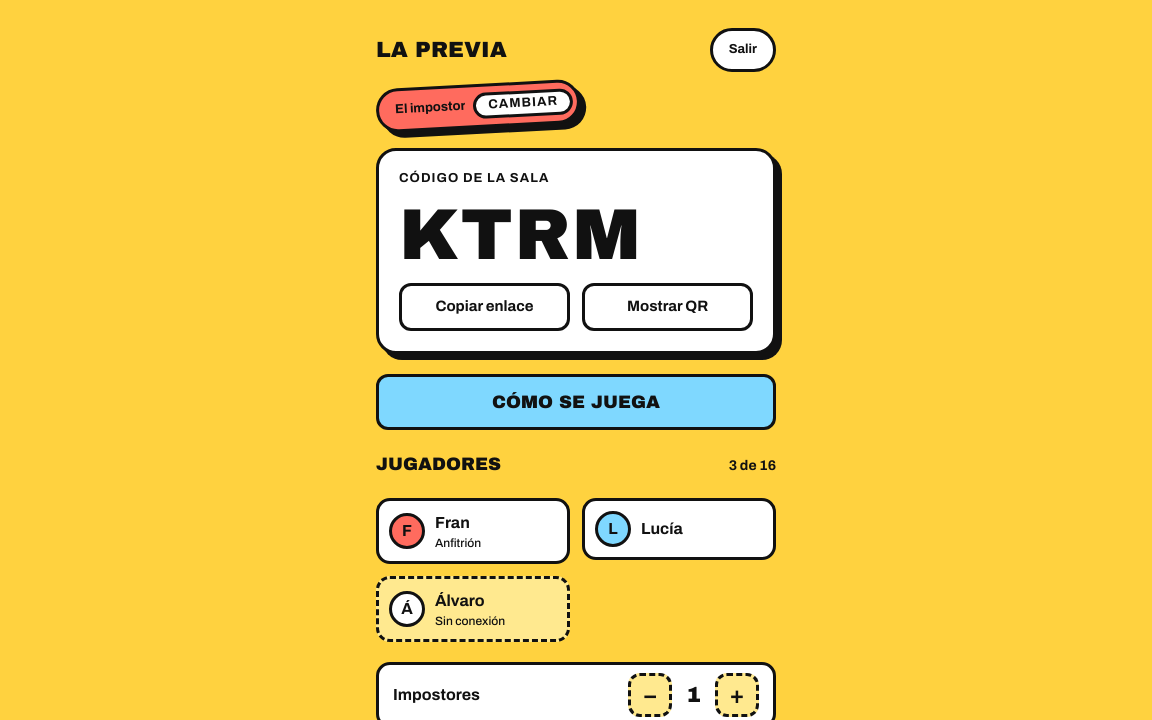
Scenario: Room › cancelar la salida no hace nada
What coordinates should you click on to do the following:
click the button with aria-label "Salir de la sala"
I would click on:
 (743, 50)
Its box is [710, 28, 776, 72].
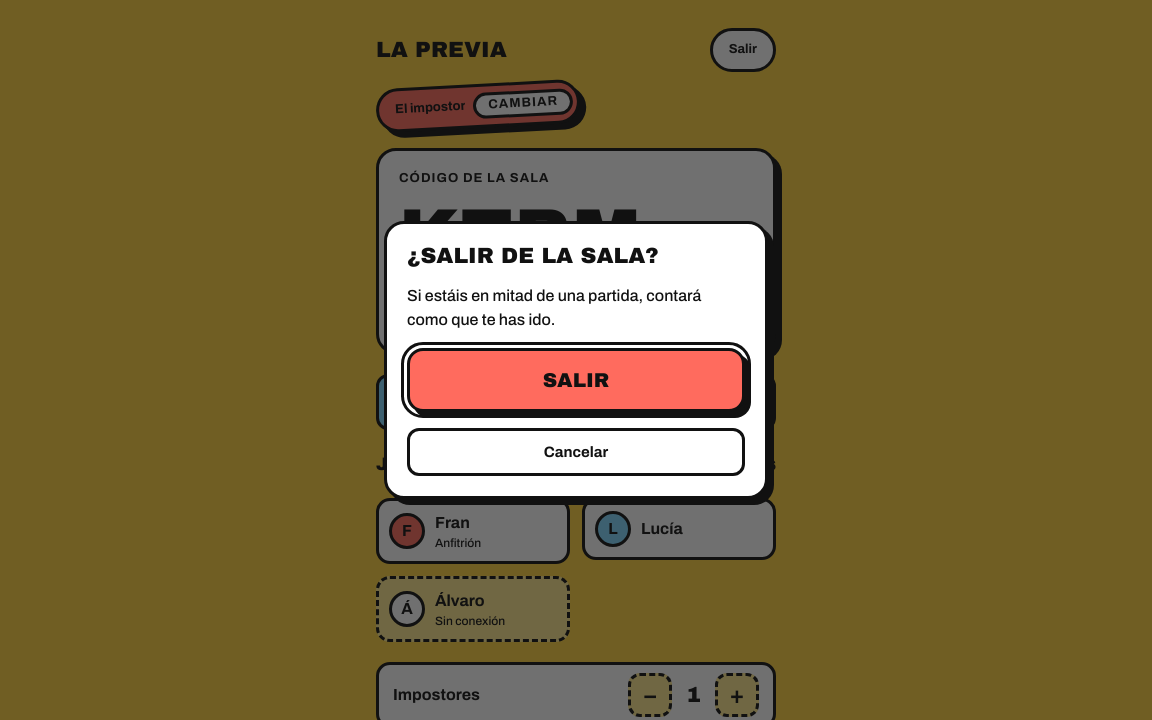
What coordinates should you click on to do the following:
click the button "Cancelar"
I would click on:
 (576, 452)
Its box is [407, 428, 745, 476].
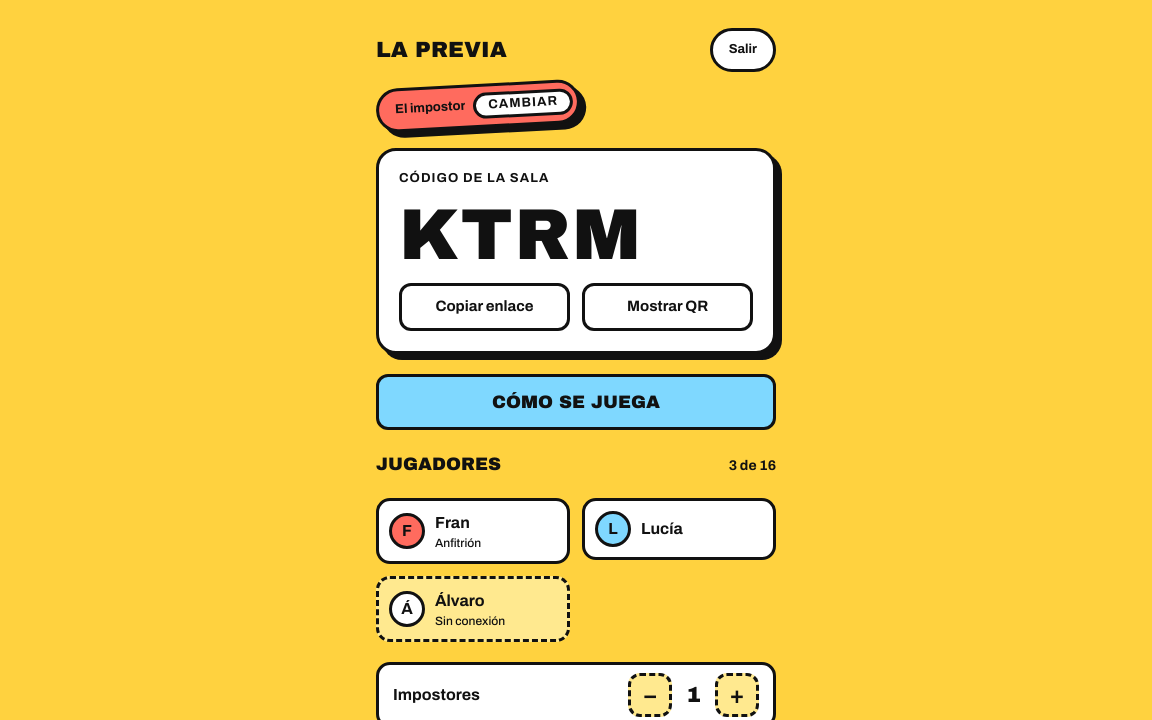
Now the dialog is gone
